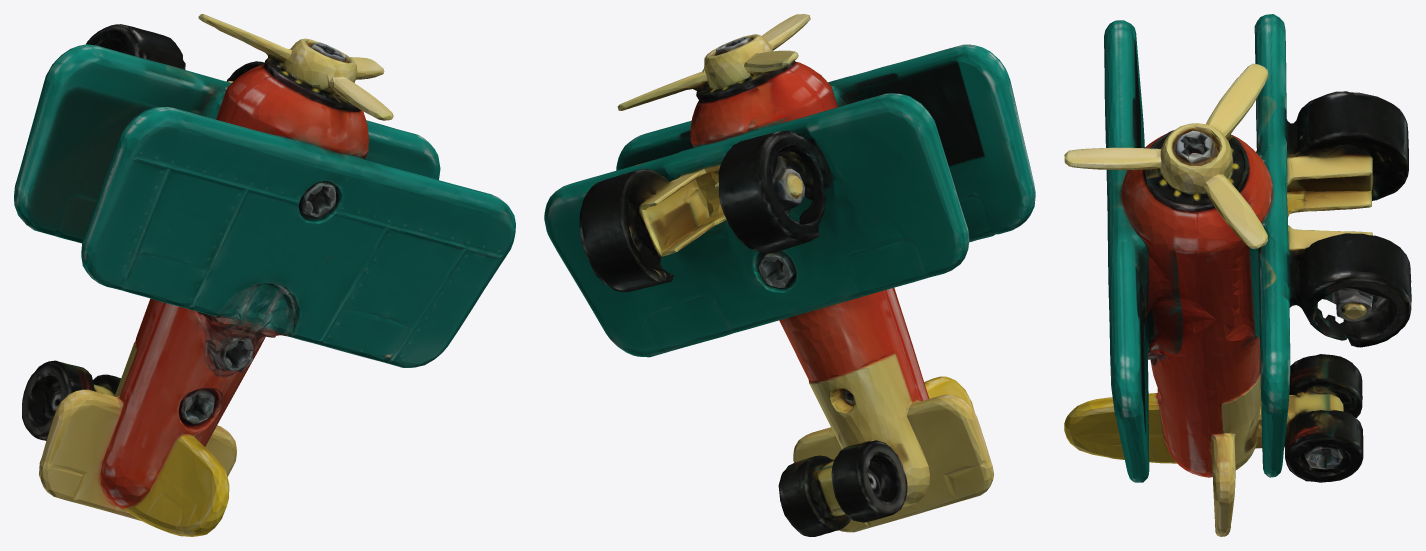
File: a_toy_airplane.glb
3 views of the same model, side by side, from view 1: azimuth 30°, elevation 25°; view 2: azimuth 150°, elevation 25°; view 3: azimuth 270°, elevation 25° (orthographic). The views are drawn at different scales.
Visible parts, largest first — view 1: textured.obj; view 2: textured.obj; view 3: textured.obj.
Boxes of the visible parts, x1=… form: textured.obj: x1=14, y1=14, x2=515, y2=536; textured.obj: x1=544, y1=14, x2=1035, y2=536; textured.obj: x1=1064, y1=14, x2=1411, y2=536.
Bounding box in the file's own units: 0.2498 × 0.2749 × 0.1774.
1 material, 1 textured.
